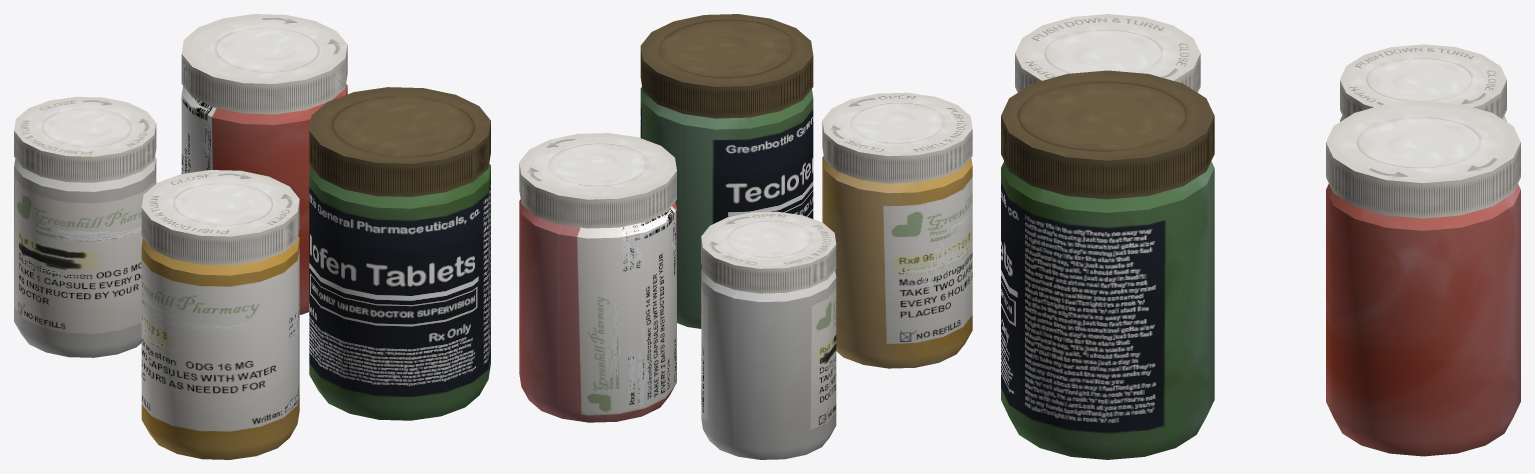
File: MedicineBottles.fbx
3 renders of one model, left to right at view 1: azimuth 30°, elevation 25°; view 2: azimuth 150°, elevation 25°; view 3: azimuth 270°, elevation 25°, orthographic. The views are drawn at different scales.
Visible parts, largest first — view 1: Med_Green, Med_Orange, Med_White, Med_Red; view 2: Med_Red, Med_Orange, Med_Green, Med_White; view 3: Med_Green, Med_Red, Med_Orange, Med_White.
Part boxes in pixels (box(x1,y1,x2,y2)): Med_Green: box(309, 87, 490, 420); Med_Orange: box(141, 170, 299, 459); Med_White: box(14, 96, 156, 357); Med_Red: box(181, 14, 347, 314); Med_Red: box(519, 133, 676, 422); Med_Orange: box(822, 92, 972, 368); Med_Green: box(640, 14, 813, 328); Med_White: box(701, 211, 836, 459); Med_Green: box(1001, 70, 1214, 459); Med_Red: box(1326, 101, 1520, 456); Med_Orange: box(1015, 14, 1200, 92); Med_White: box(1340, 44, 1506, 121).
Size of the model in its own units: 238 by 181 by 280.
Materials: 1 (1 with a texture image).
